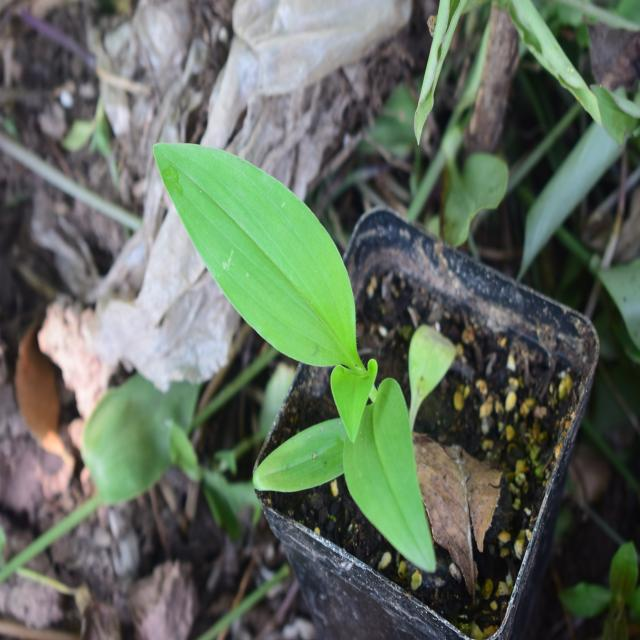Common Dayflower: (152, 134, 453, 577)
